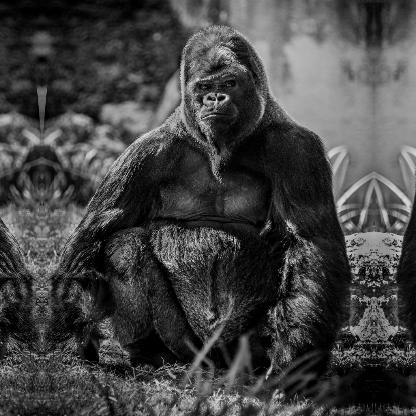Monkey: (42, 24, 352, 384)
